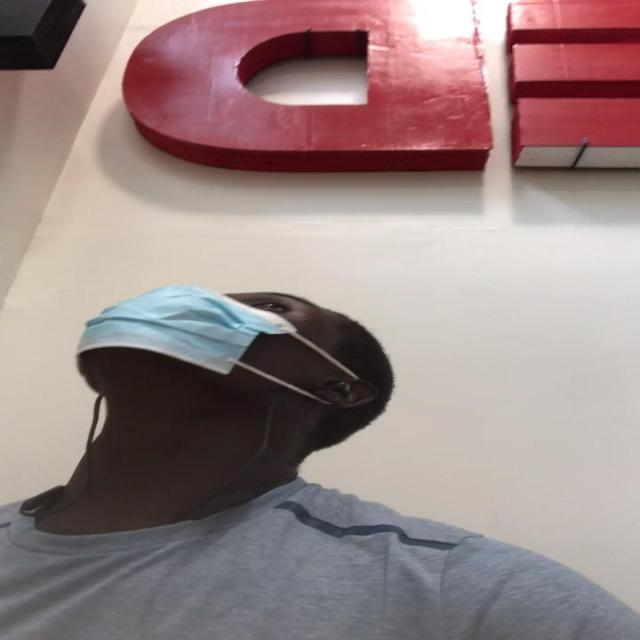face: (74, 282, 346, 398)
